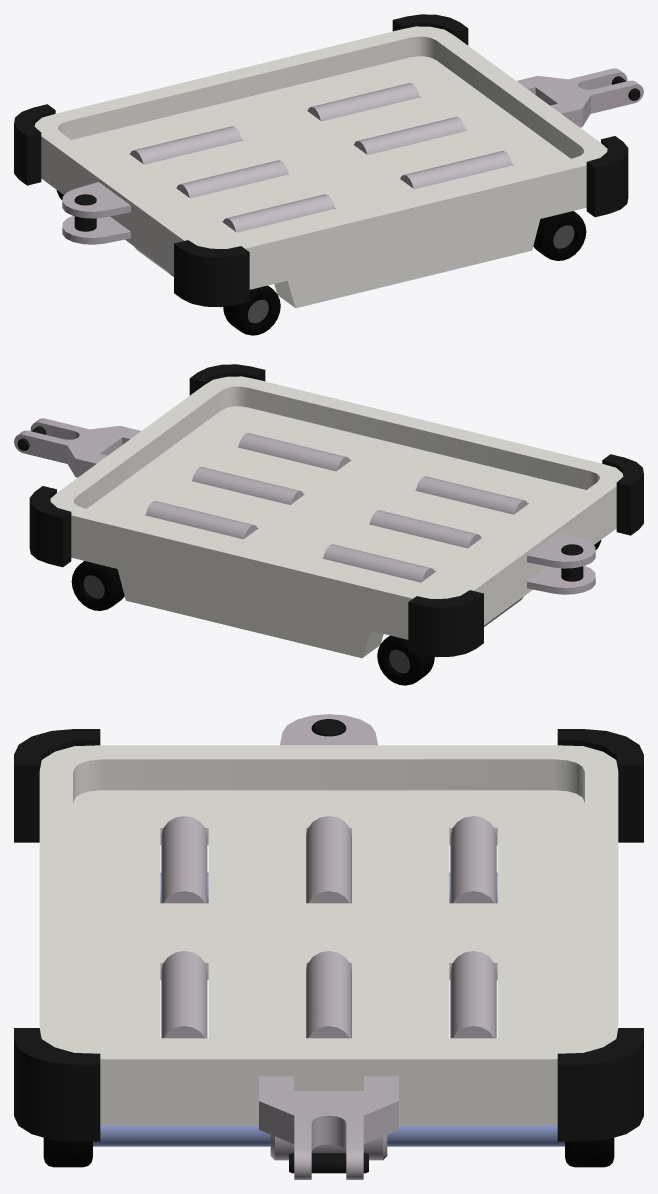
File: 21_3_BaggageTruck_AIRPORT_0.obj
3 renders of one model, top to bottom at view 1: azimuth 30°, elevation 25°; view 2: azimuth 150°, elevation 25°; view 3: azimuth 270°, elevation 25°, orthographic. The views are drawn at different scales.
Parts seen in each view (by area): view 1: 21.3.BaggageTruck_AIRPORT_0; view 2: 21.3.BaggageTruck_AIRPORT_0; view 3: 21.3.BaggageTruck_AIRPORT_0.
Boxes of the visible parts, x1=… form: 21.3.BaggageTruck_AIRPORT_0: x1=14, y1=14, x2=643, y2=335; 21.3.BaggageTruck_AIRPORT_0: x1=14, y1=364, x2=643, y2=685; 21.3.BaggageTruck_AIRPORT_0: x1=14, y1=714, x2=643, y2=1179.
Bounding box in the file's own units: 7.07 × 1.15 × 4.36.
Materials: 1 (1 with a texture image).
